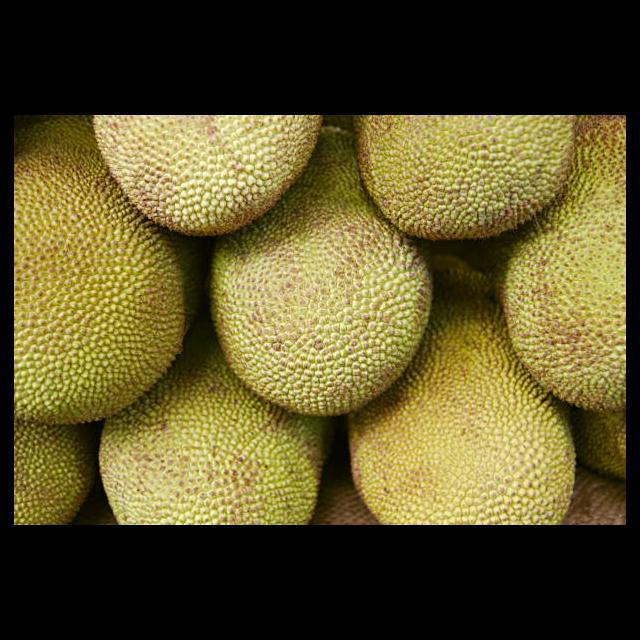mit: (353, 297, 575, 527), (12, 147, 185, 427), (209, 230, 427, 416), (501, 117, 627, 408), (97, 378, 319, 527), (86, 108, 323, 235), (351, 114, 576, 241), (8, 426, 94, 524)
